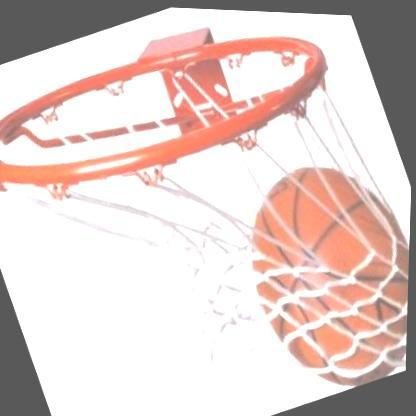basketball: (219, 125, 413, 406)
